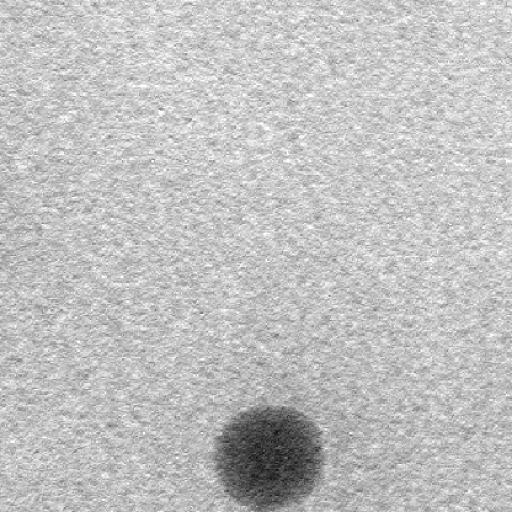Nanoparticles: (212, 402, 326, 508)
